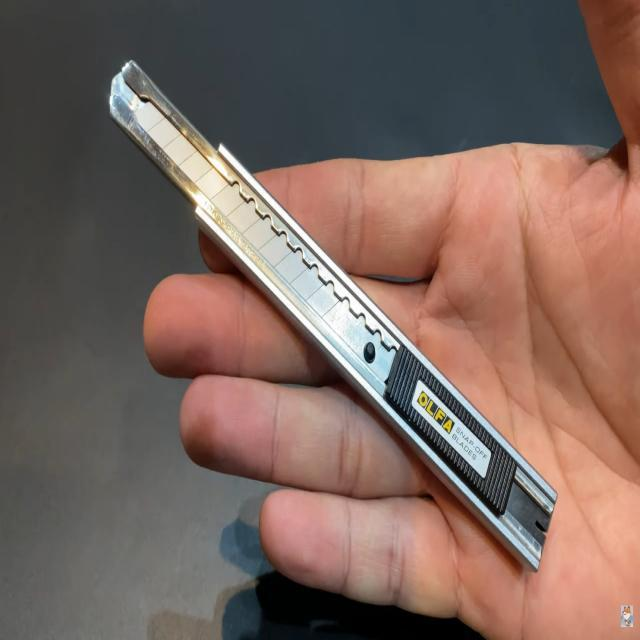cutter: (52, 26, 628, 594)
